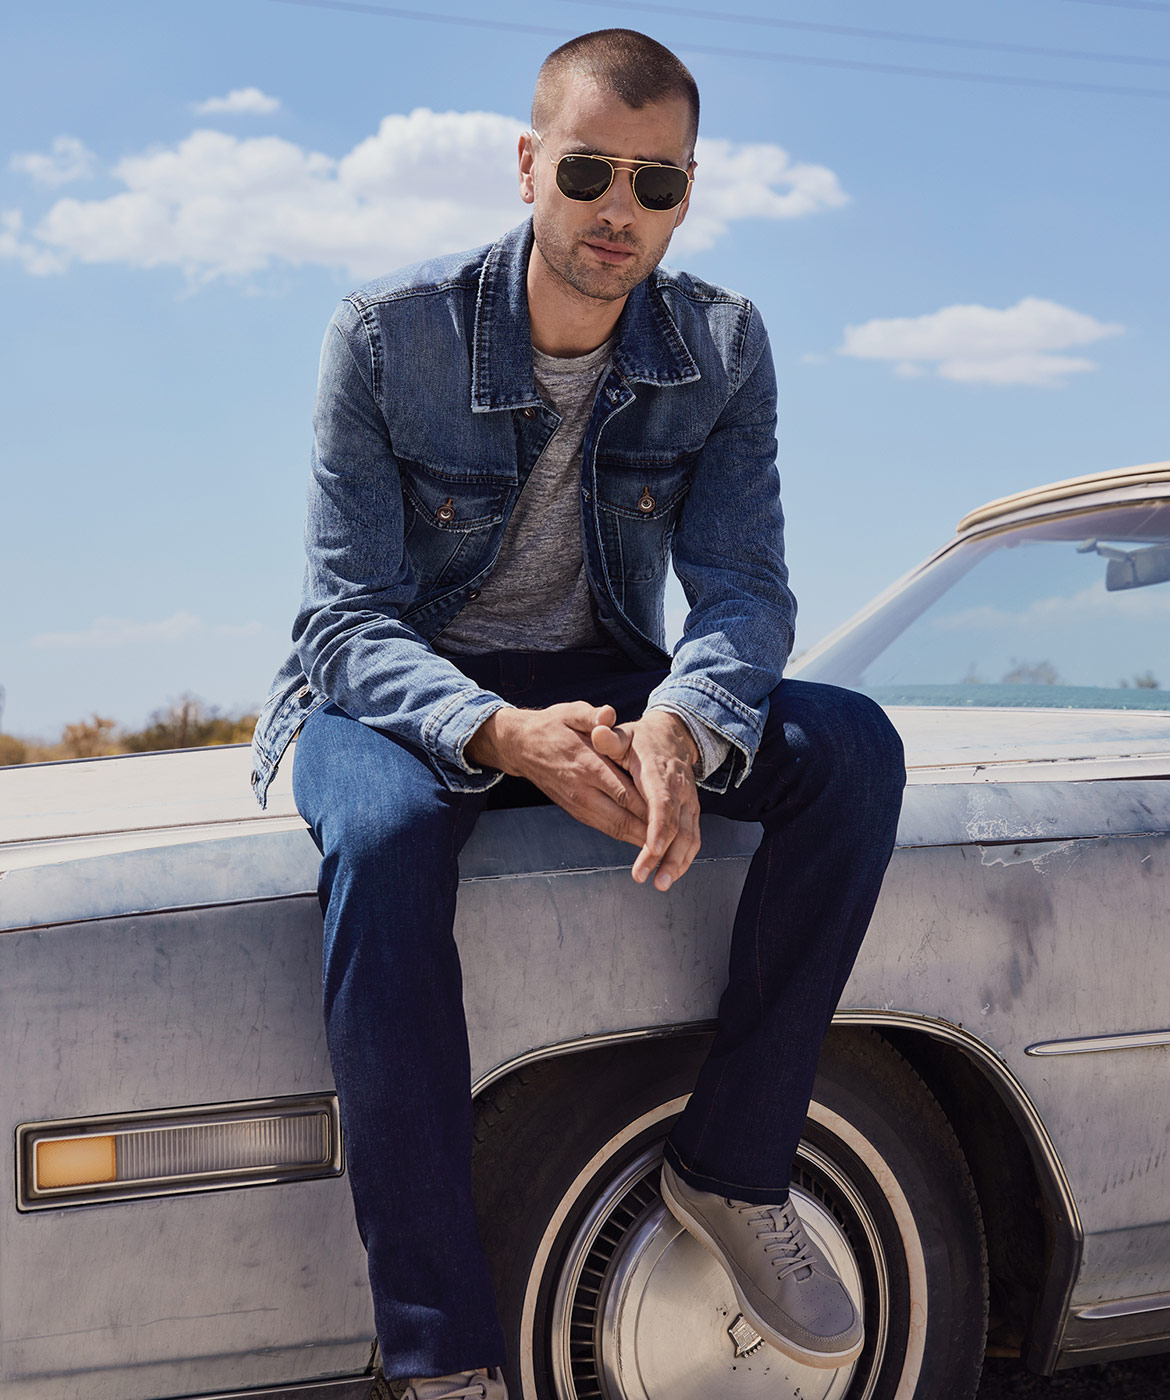jeans: (274, 645, 904, 1352)
sunglasses: (538, 149, 686, 220)
